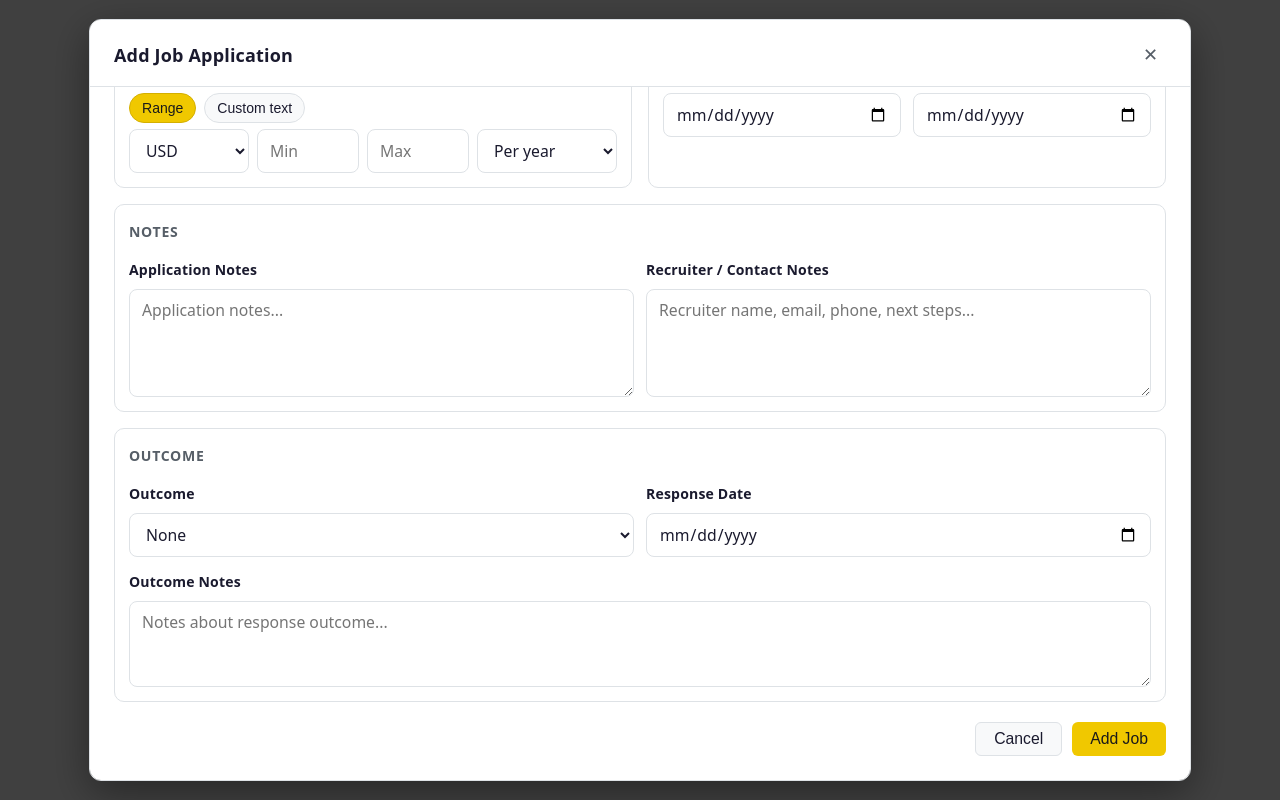
Scenario: JobForm › shows validation errors when required fields are empty
(page scrolled)
Click the button "Add Job": (1119, 739) [1072, 722, 1166, 756]
(page scrolled)
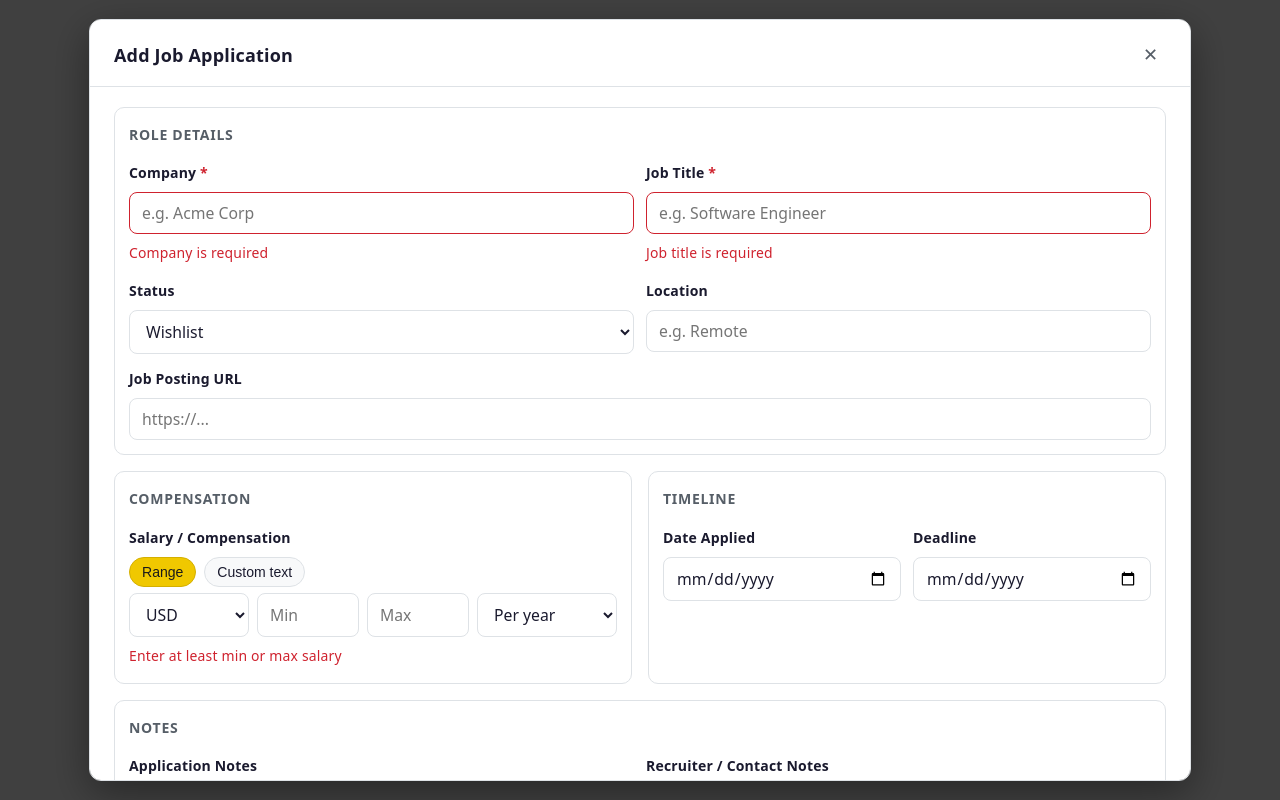
Now the text "Company is required" is shown, box [129, 243, 268, 262]
